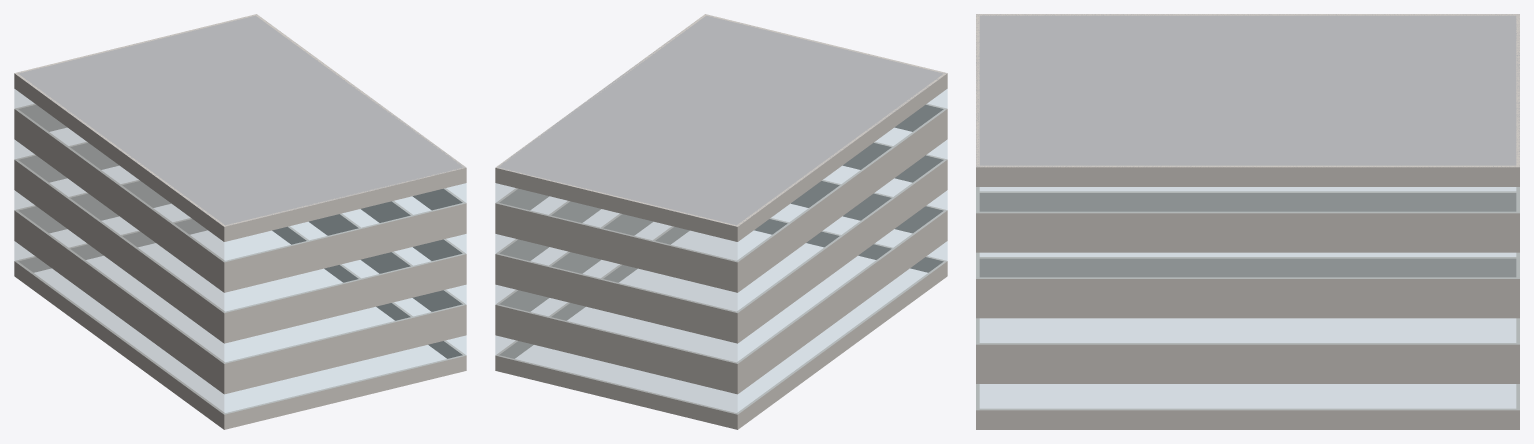
3 views of the same model, side by side, from view 1: azimuth 30°, elevation 25°; view 2: azimuth 150°, elevation 25°; view 3: azimuth 270°, elevation 25° (orthographic). The views are drawn at different scales.
Visible parts, largest first — view 1: Dinding Bata, Atap Beton, Kaca Jendela; view 2: Dinding Bata, Atap Beton, Kaca Jendela; view 3: Dinding Bata, Atap Beton, Kaca Jendela.
Part boxes in pixels (x1=…): Dinding Bata: x1=14, y1=14, x2=466, y2=429; Atap Beton: x1=16, y1=15, x2=465, y2=226; Kaca Jendela: x1=14, y1=89, x2=466, y2=414; Dinding Bata: x1=495, y1=14, x2=947, y2=429; Atap Beton: x1=496, y1=14, x2=945, y2=225; Kaca Jendela: x1=495, y1=89, x2=947, y2=414; Dinding Bata: x1=976, y1=14, x2=1519, y2=429; Atap Beton: x1=976, y1=14, x2=1519, y2=167; Kaca Jendela: x1=976, y1=187, x2=1519, y2=409.
Size of the model in its own units: 20 by 16 by 30.
